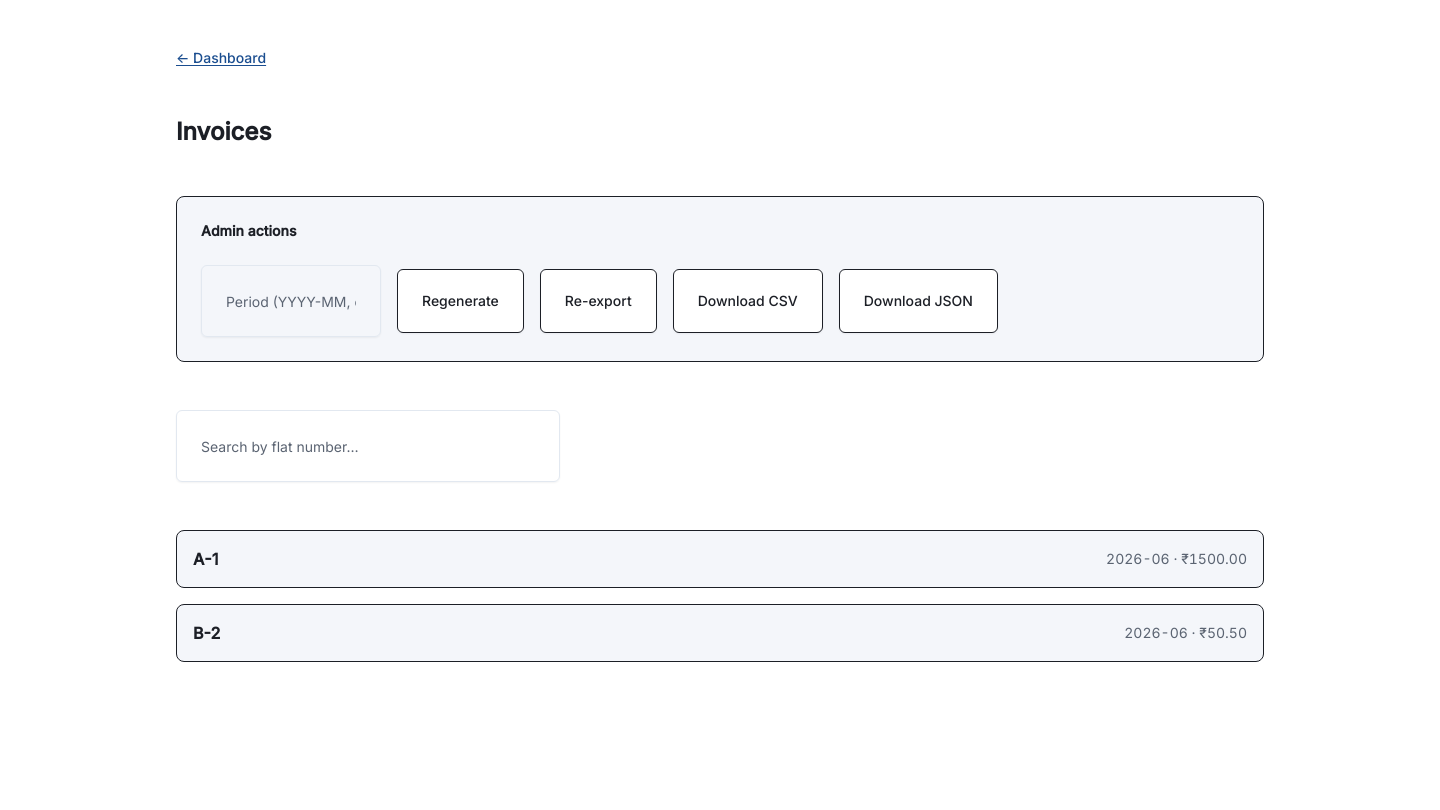
it: TenantInvoices › selecting a flat's row (15.4c) › reveals history and a clearly-labeled preview when a row is clicked
This screenshot has width=1440, height=810.
Check: the text "Preview — not yet invoiced" is not shown
Step 1. Click the button "A-1 2026-06 · ₹1500.00" → (1138, 558), box [176,530,1264,588]
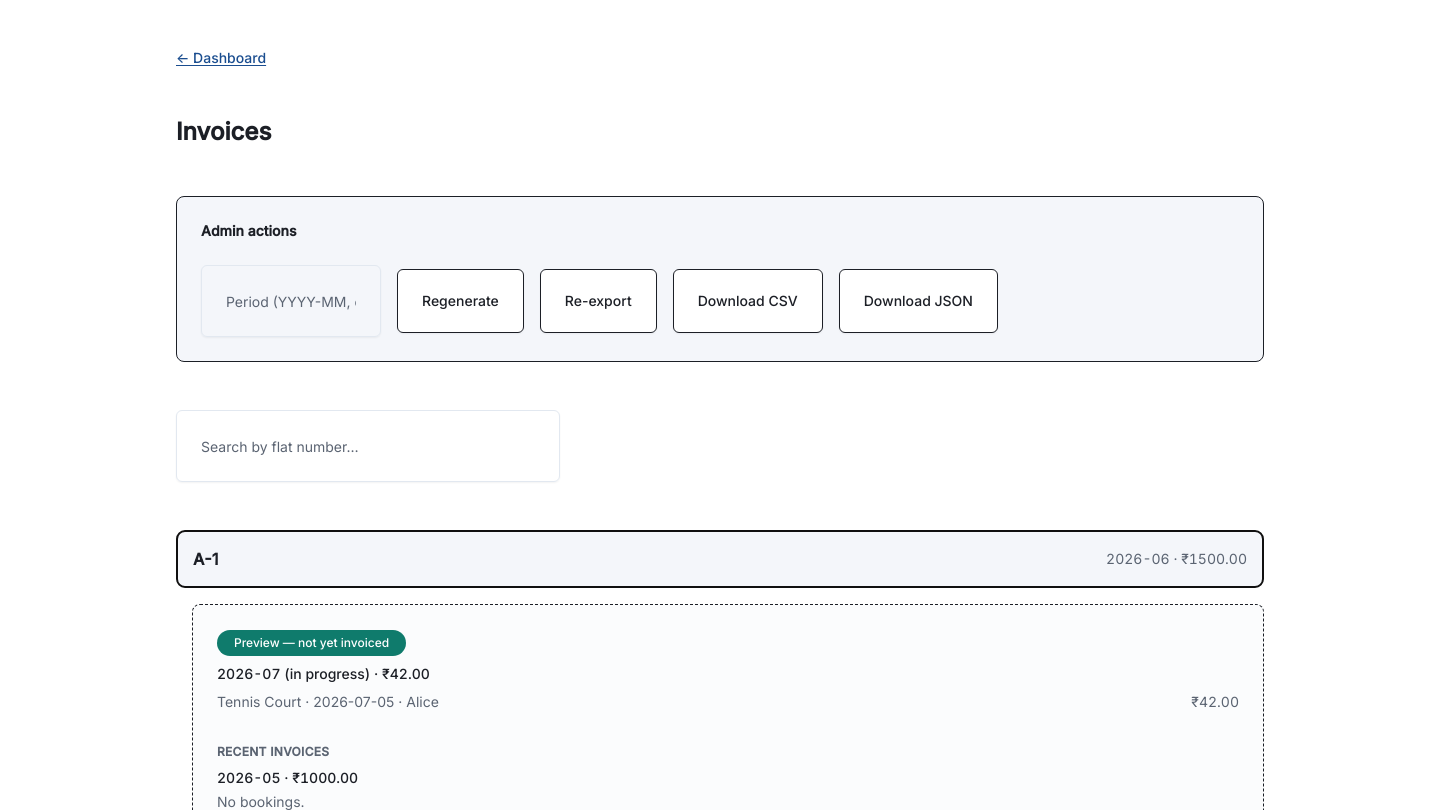
Check: the text "Preview — not yet invoiced" is shown, box [217,630,406,656]
Check: the text "2026-07 (in progress) · ₹42.00" is shown, box [217,665,430,682]
Check: the text "Tennis Court · 2026-07-05 · Alice" is shown, box [217,692,439,712]
